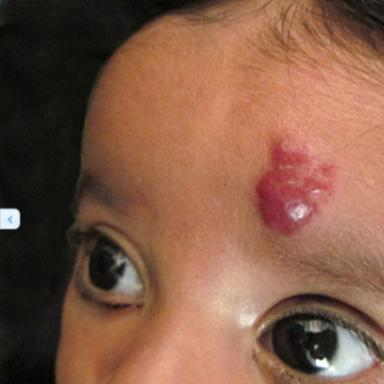Hemangiome: (257, 142, 334, 234)
